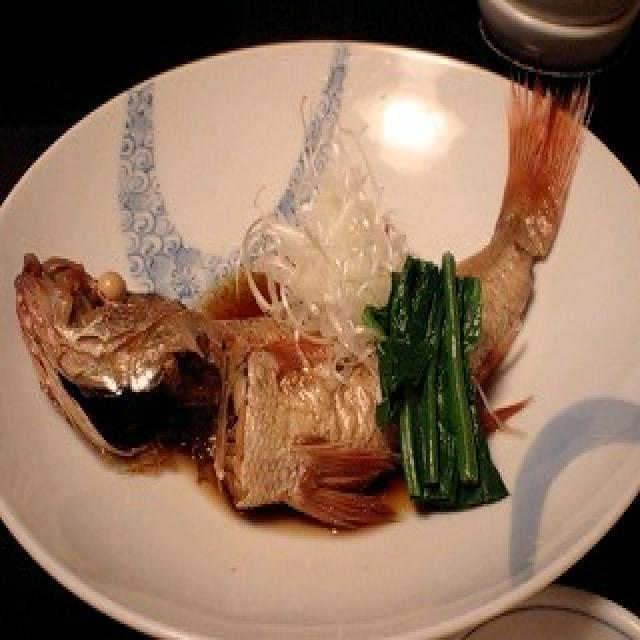熟制海鲜: (0, 48, 608, 571)
